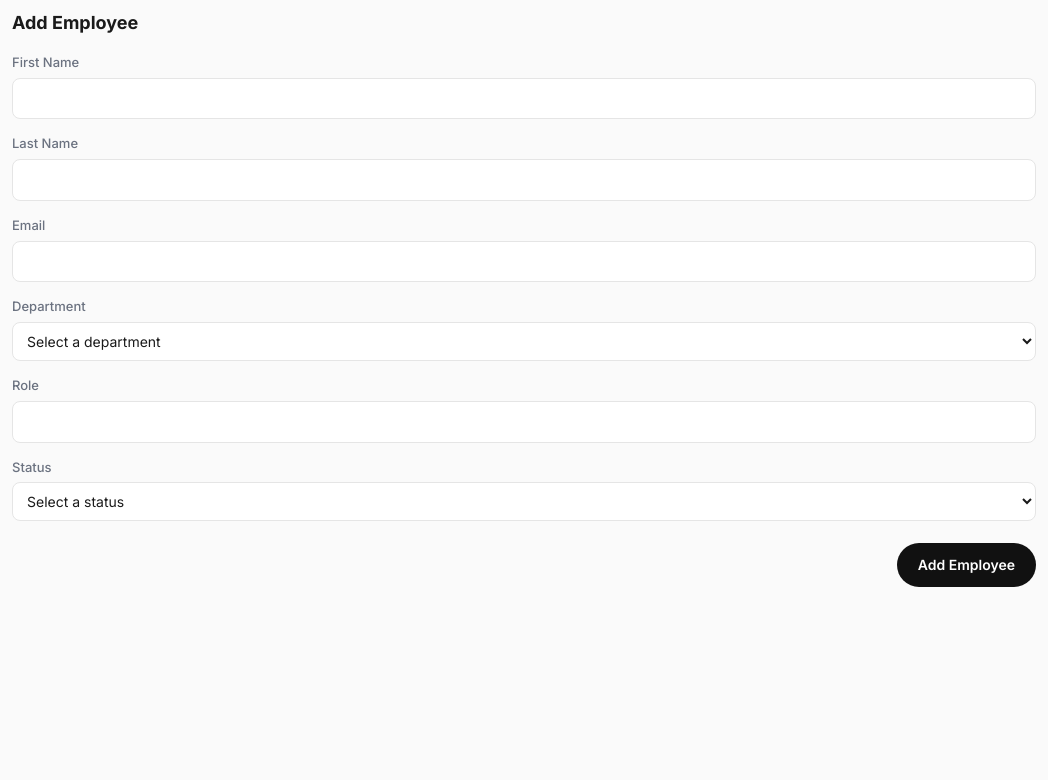
Scenario: EmployeeForm › shows inline validation errors and does not submit when the form is empty
This screenshot has width=1048, height=780.
Click the button "Add Employee".
click(966, 565)  # box [897,543,1036,587]
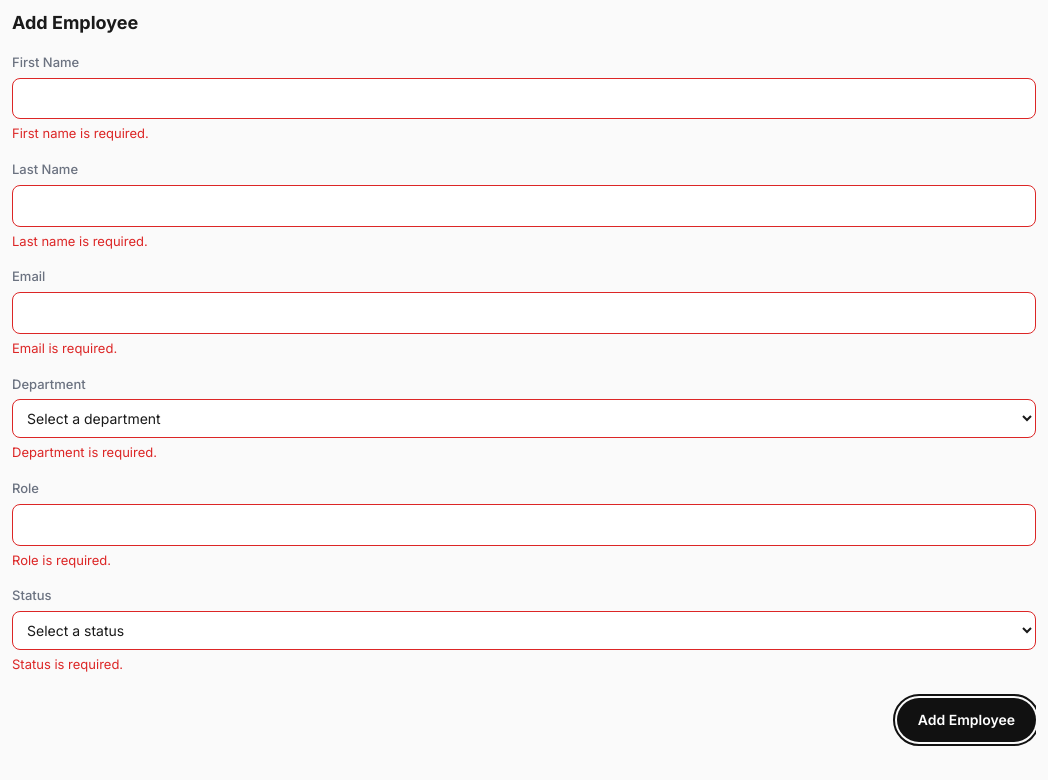
Expected: the text "First name is required." is shown, [12,125,149,141]
Expected: the text "Last name is required." is shown, [12,232,148,248]
Expected: the text "Email is required." is shown, [12,340,117,356]
